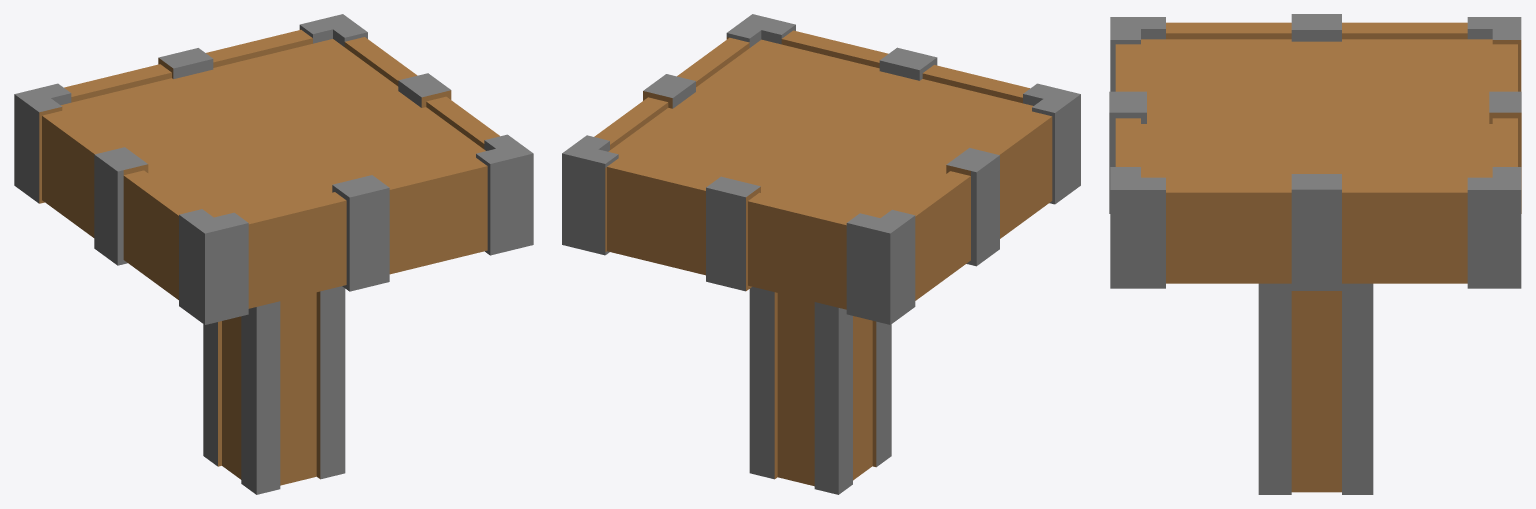
The model's file is RocketPistonHead.fbx.
3 views of the same model, side by side, from view 1: azimuth 30°, elevation 25°; view 2: azimuth 150°, elevation 25°; view 3: azimuth 270°, elevation 25° (orthographic). The views are drawn at different scales.
Parts seen in each view (by area): view 1: Cube; view 2: Cube; view 3: Cube.
Boxes of the visible parts, x1,y1,x2,y2 form: Cube: (14, 14, 533, 494); Cube: (562, 14, 1080, 494); Cube: (1109, 14, 1521, 494).
Bounding box in the file's own units: 207 × 203 × 205.
